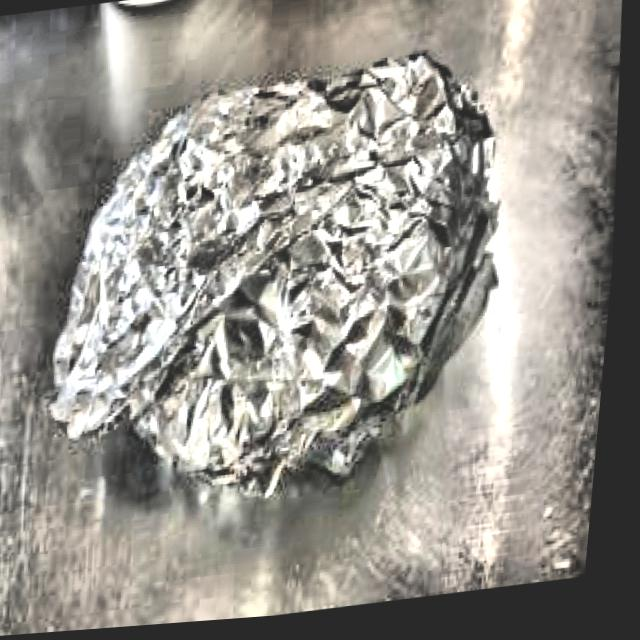Foil: (27, 40, 546, 548)
